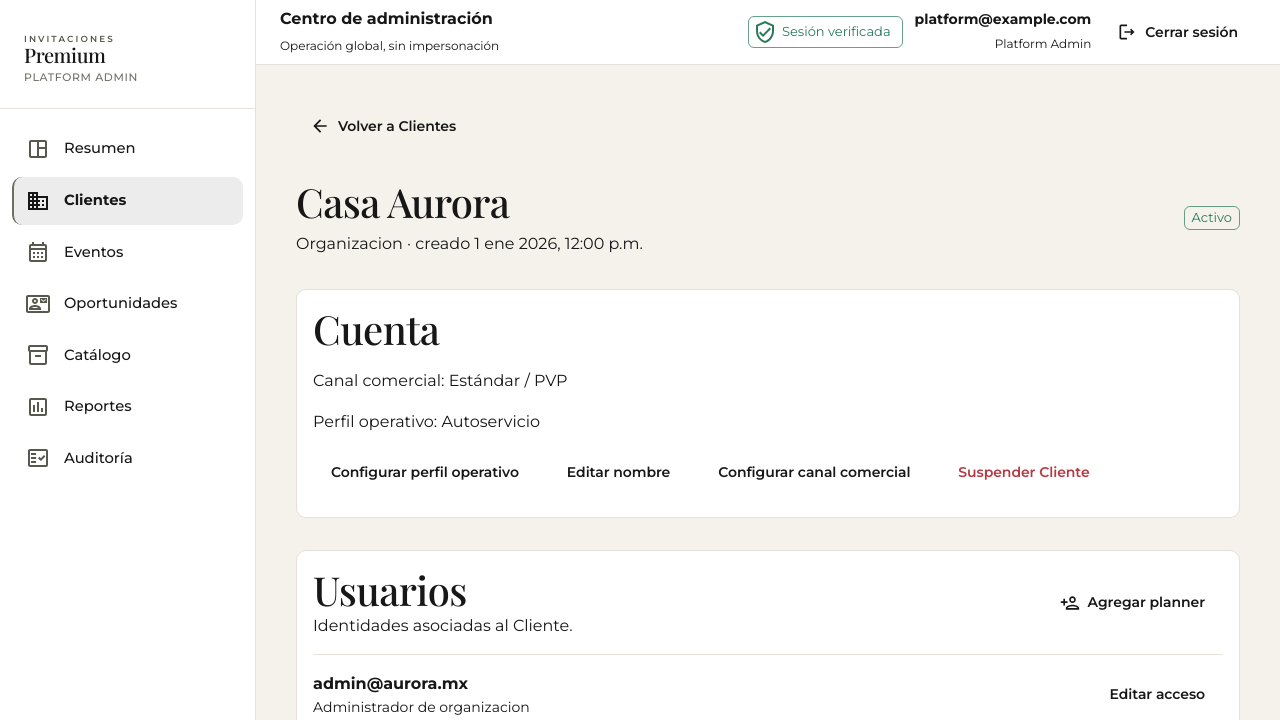
Scenario: Admin Clients › keeps local state unchanged on a sensitive conflict
Click the button "Suspender Cliente": (1024, 472) [940,451,1108,493]
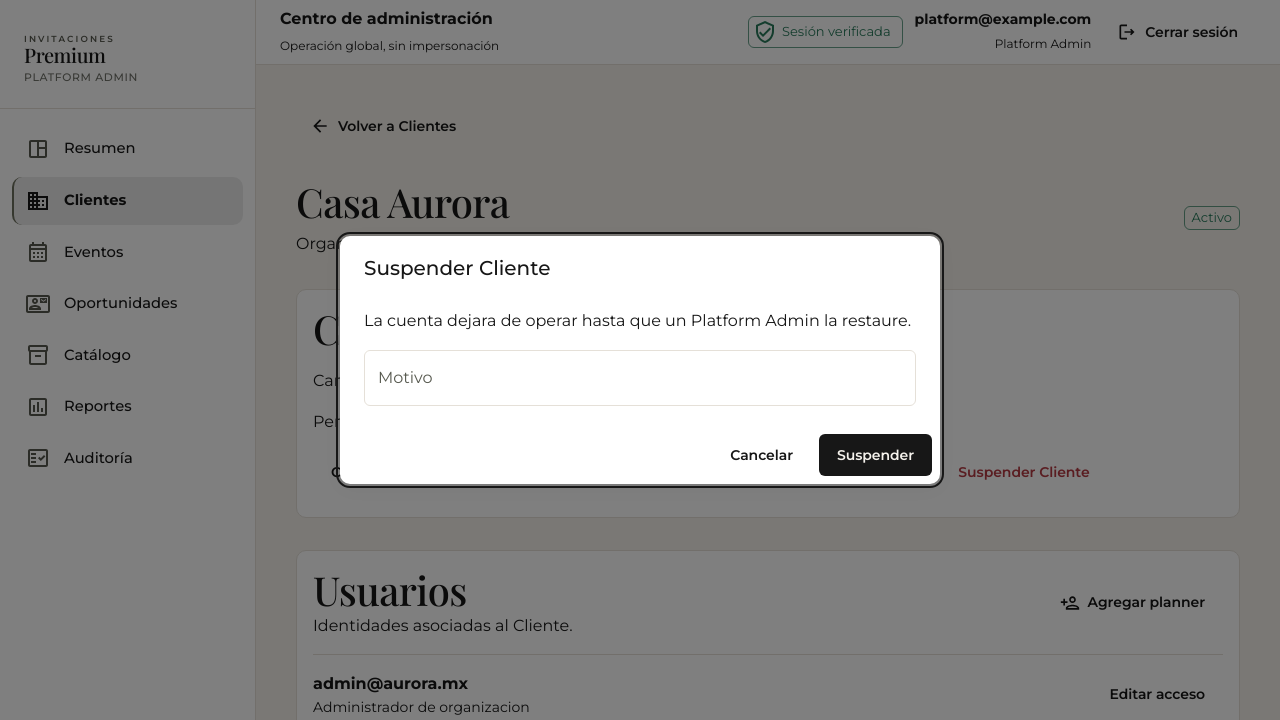
Click the button "Suspender": (876, 455) [819,434,932,476]
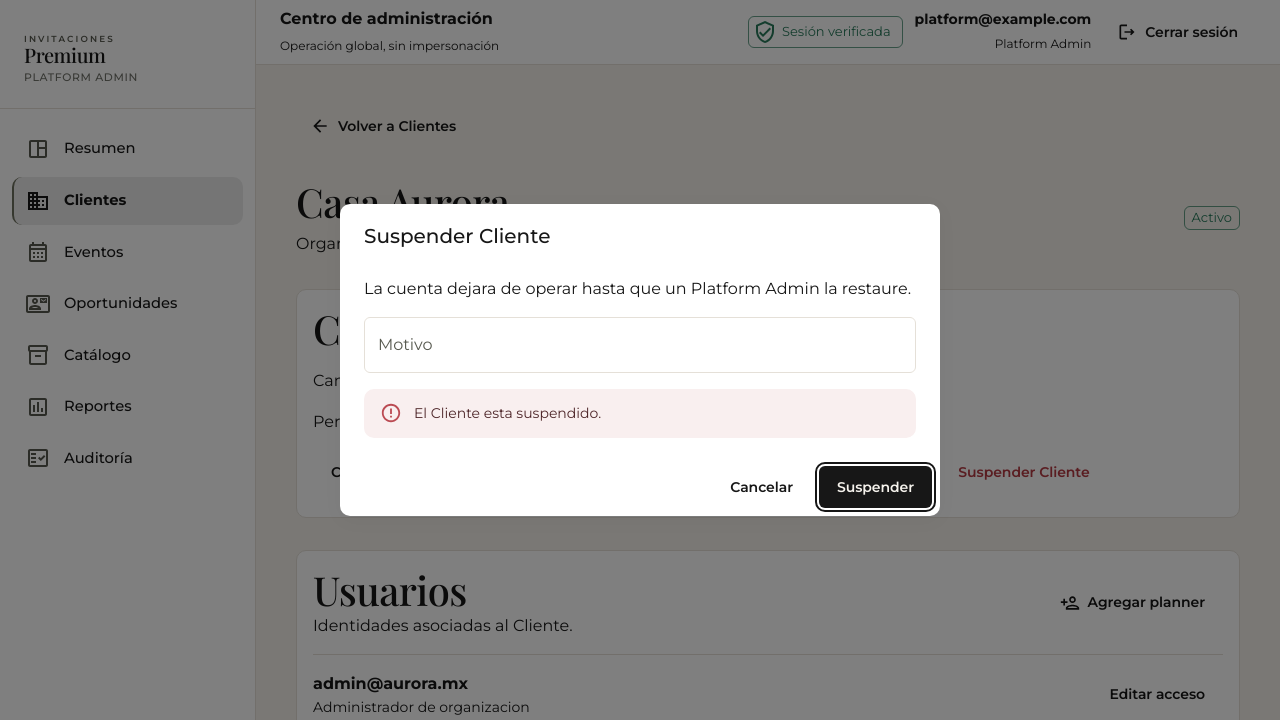
Expected: the text "Activo" is shown, [1192,209,1232,225]
Expected: the text "El Cliente esta suspendido." is shown, [414,404,601,422]
